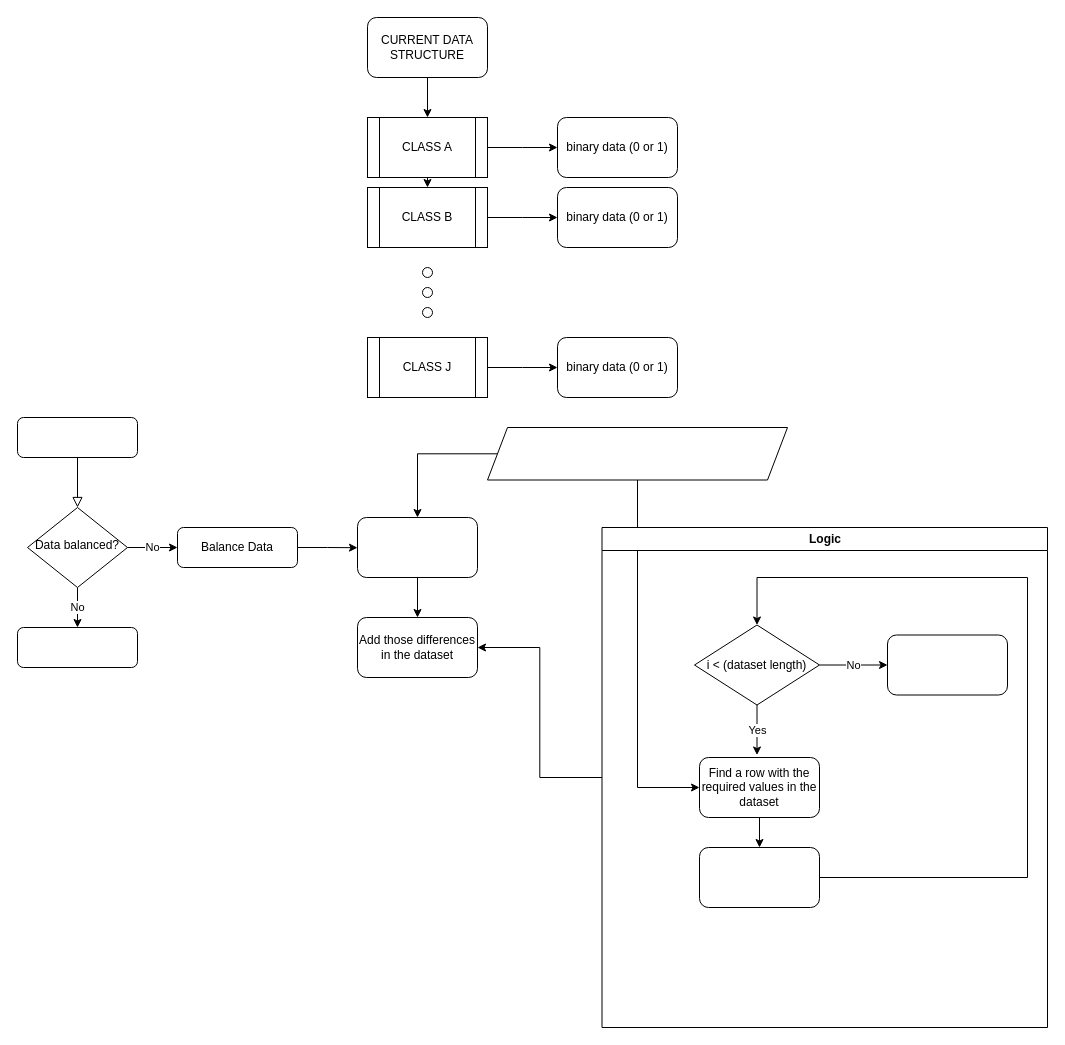
Image size: 1065x1045. Some labels were removed from this diagram. Each missing label, with the centre of its shape:
Append row to df: pixel 759 877
Check how much classes we need: pixel 417 547
Count differences between 0s and 1s in the dataset.: pixel 637 453
data input: pixel 77 437
End of function: pixel 947 664
Repair Lamp: pixel 77 647
